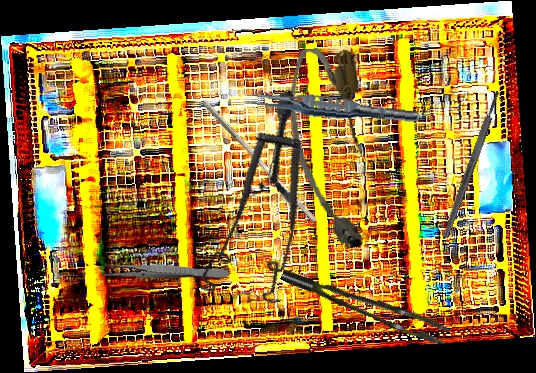Cannula: (282, 44, 376, 253)
Dressing Forceps: (99, 262, 230, 280)
Pusher: (197, 99, 321, 224)
Scalpel Handle: (440, 90, 503, 239)
Speculum: (159, 90, 341, 320)
Tissue Forceps: (280, 247, 451, 362), (241, 88, 421, 127)
